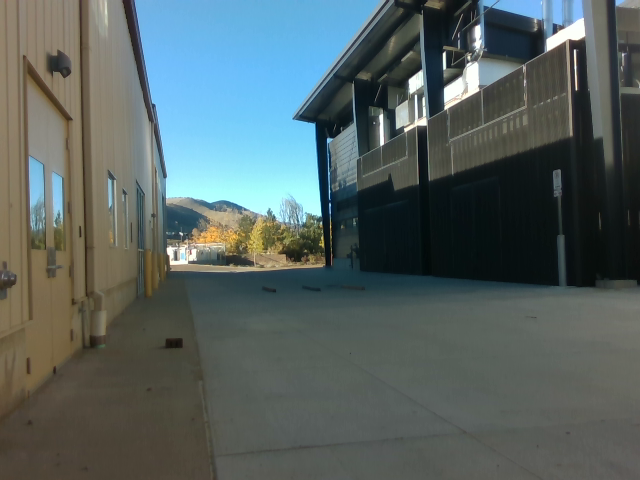dunnage: (258, 279, 371, 296)
